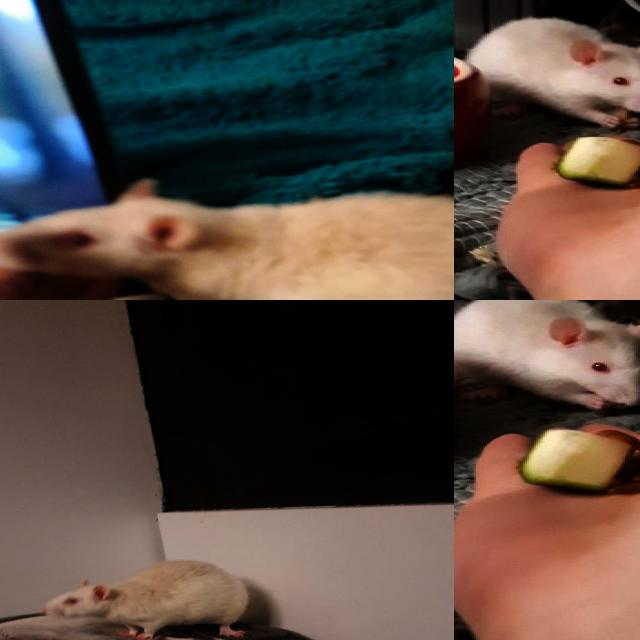rat: (0, 178, 454, 300), (454, 300, 640, 412), (469, 15, 640, 134), (44, 560, 254, 640)
